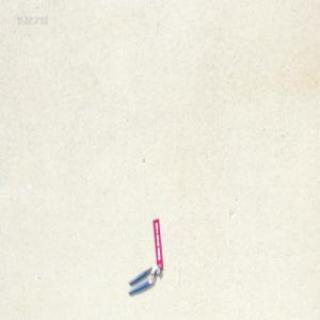LuggageTagtrack_idkeyframe: (152, 217, 162, 269)
Pliertrack_idkeyframe: (126, 262, 160, 294)
